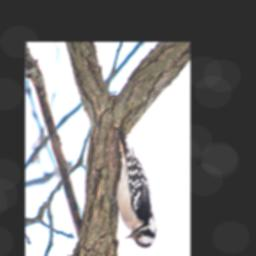Woodpecker: (106, 129, 156, 248)
